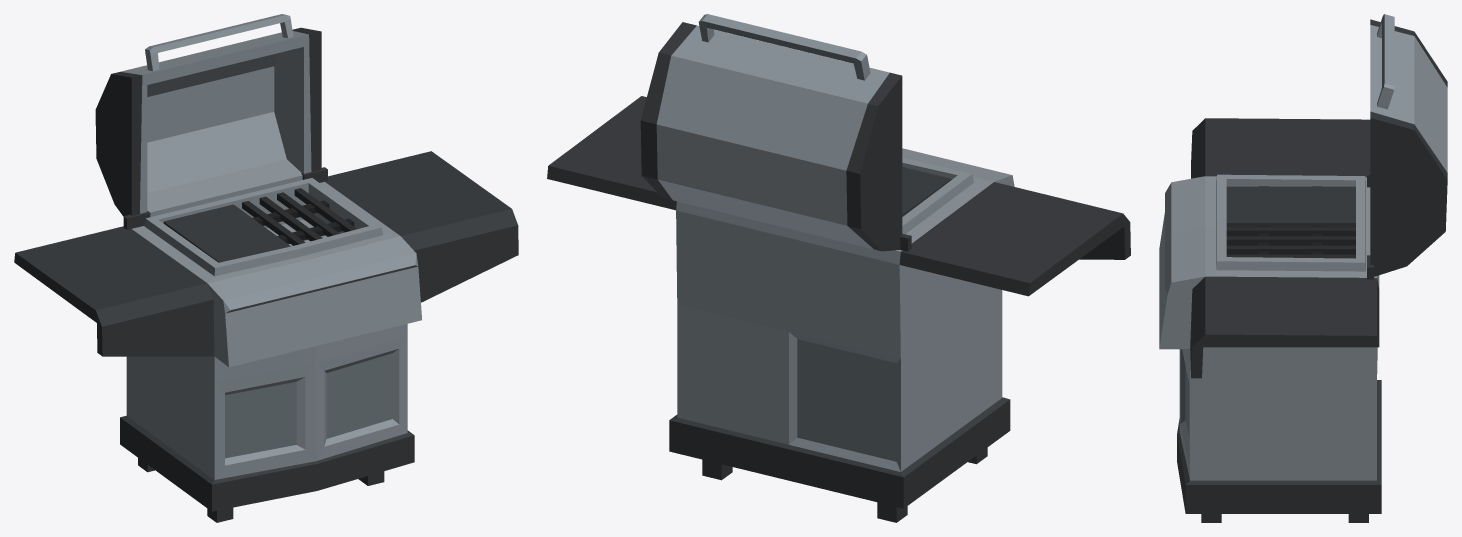
Rendered from Barbecue.obj.
3 views of the same model, side by side, from view 1: azimuth 30°, elevation 25°; view 2: azimuth 150°, elevation 25°; view 3: azimuth 270°, elevation 25° (orthographic). The views are drawn at different scales.
Visible parts, largest first — view 1: Barbecue; view 2: Barbecue; view 3: Barbecue.
Part boxes in pixels (x1=…): Barbecue: x1=14, y1=14, x2=518, y2=522; Barbecue: x1=547, y1=14, x2=1130, y2=522; Barbecue: x1=1159, y1=14, x2=1447, y2=522.
Size of the model in its own units: 1.55 by 1.45 by 0.8734.
Materials: 1 (1 with a texture image).
